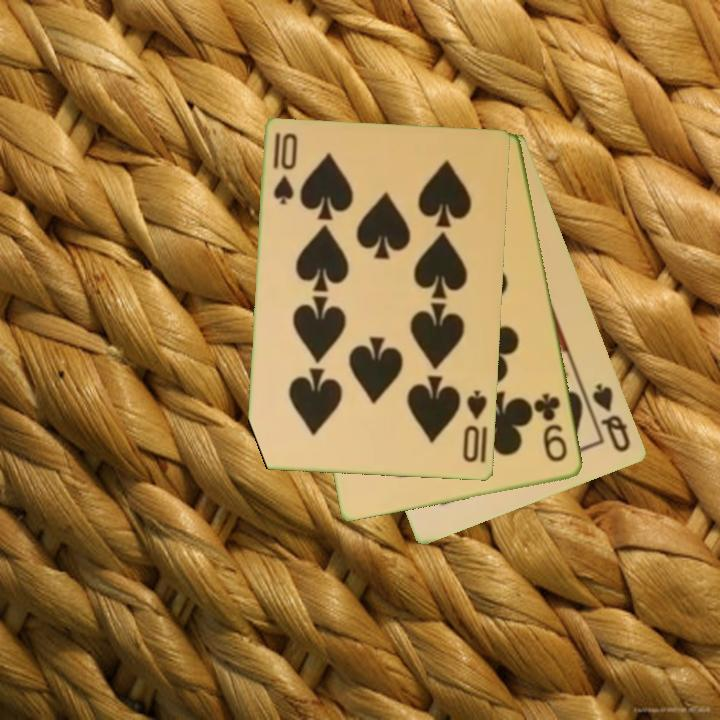10s: (460, 387, 491, 466), (270, 129, 301, 208)
9c: (532, 389, 571, 466)
Qs: (589, 380, 634, 456)
